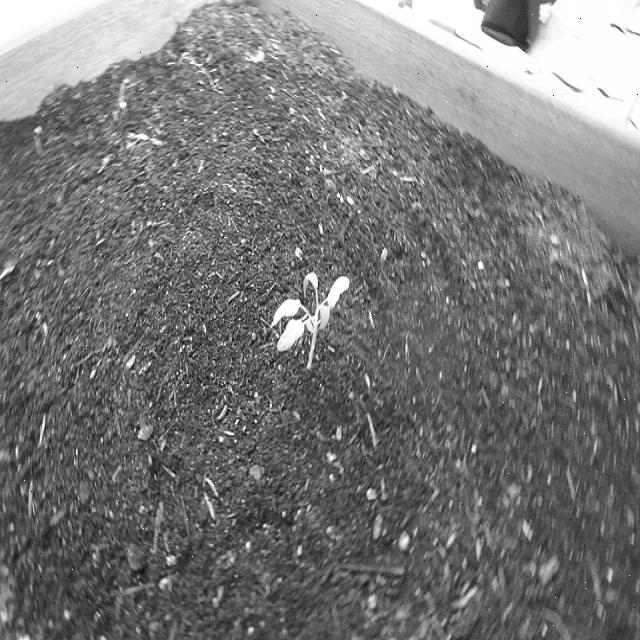Healthy: (267, 269, 353, 376)
